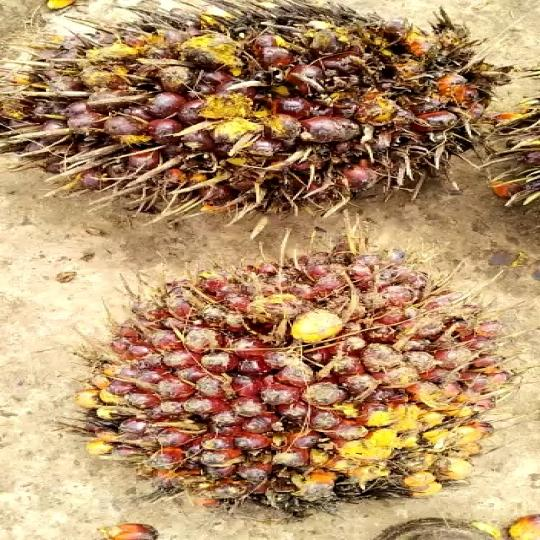masak: (67, 232, 495, 509), (0, 0, 484, 226)
